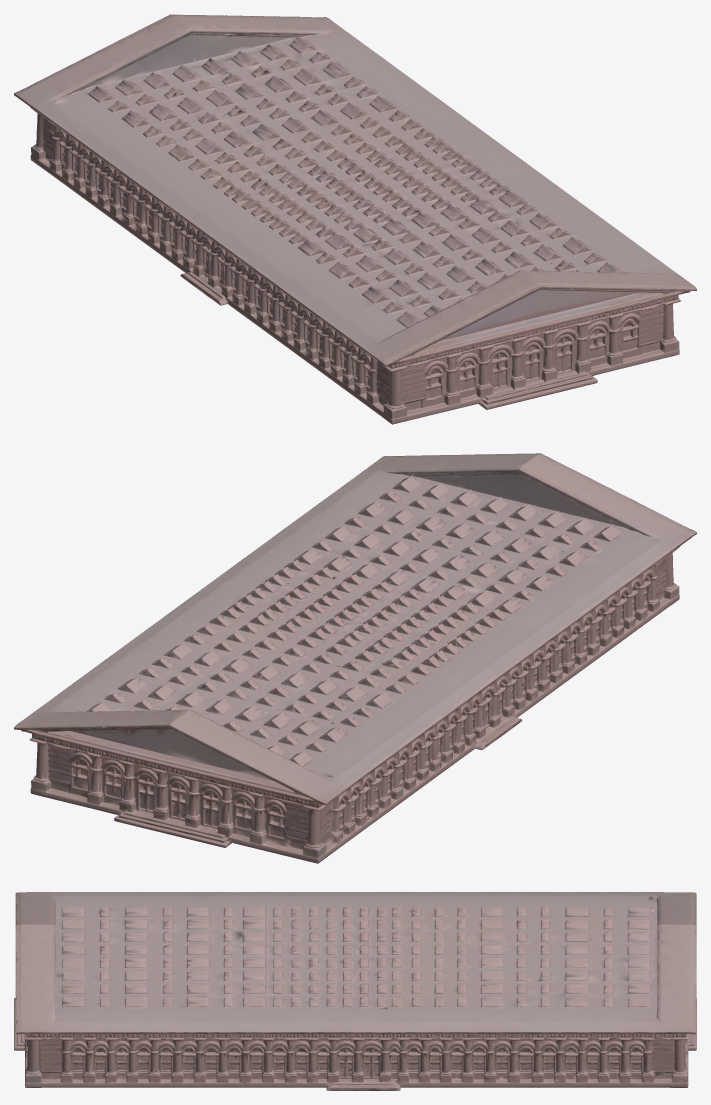
File: manege-optimized.glb
The picture shows the model from 3 angles, top to bottom: view 1: azimuth 30°, elevation 25°; view 2: azimuth 150°, elevation 25°; view 3: azimuth 270°, elevation 25°; orthographic projection. The views are drawn at different scales.
Visible parts, largest first — view 1: material; view 2: material; view 3: material.
Part boxes in pixels (bbox=[...]): material: bbox=[14, 14, 696, 424]; material: bbox=[14, 453, 696, 863]; material: bbox=[14, 892, 696, 1090].
Bounding box in the file's own units: 0.5238 × 0.1775 × 1.08.
Materials: 1 (1 with a texture image).
